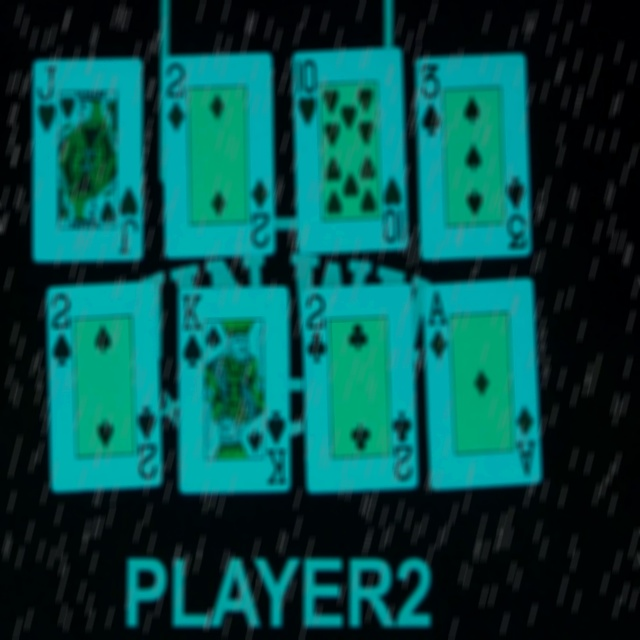10H: (293, 57, 319, 130), (382, 175, 406, 247)
2C: (298, 292, 329, 368), (390, 406, 418, 484)
2D: (161, 61, 188, 137), (248, 178, 274, 252)
2S: (46, 291, 73, 370), (134, 405, 161, 483)
3S: (415, 61, 445, 143), (504, 175, 531, 255)
AD: (513, 400, 540, 479), (425, 286, 451, 365)
JH: (32, 64, 58, 140), (117, 185, 142, 259)
KS: (263, 407, 290, 486), (179, 292, 204, 373)
